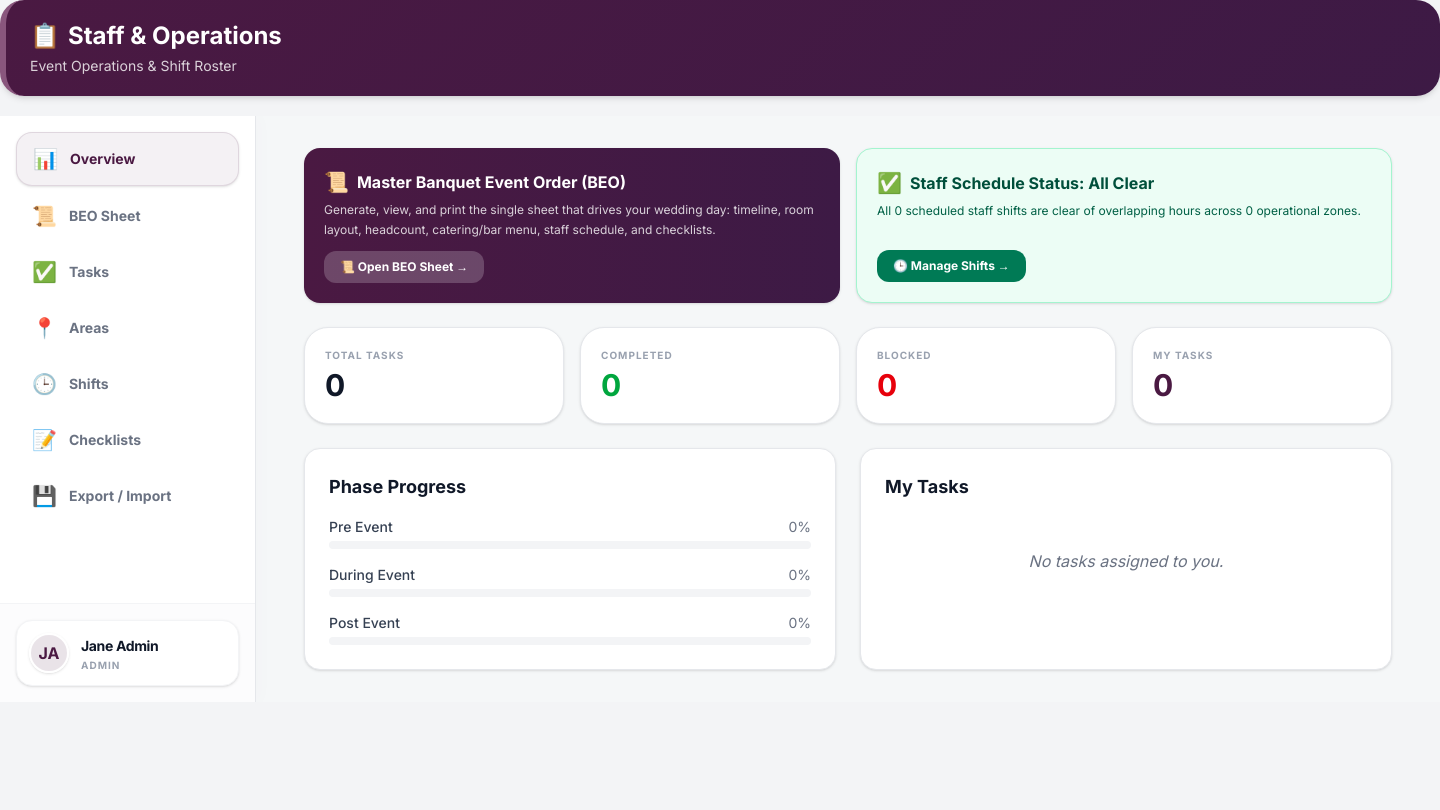
Scenario: Comprehensive Platform Application & Functional Design Audit (#153) › renders interactive StatCards on Staff Operations Overview that navigate to tasks tab when clicked
# Click "Total Tasks" stat card button
Click the button titled "click to view total tasks" at coordinates (365, 355), box [304,327,564,424]
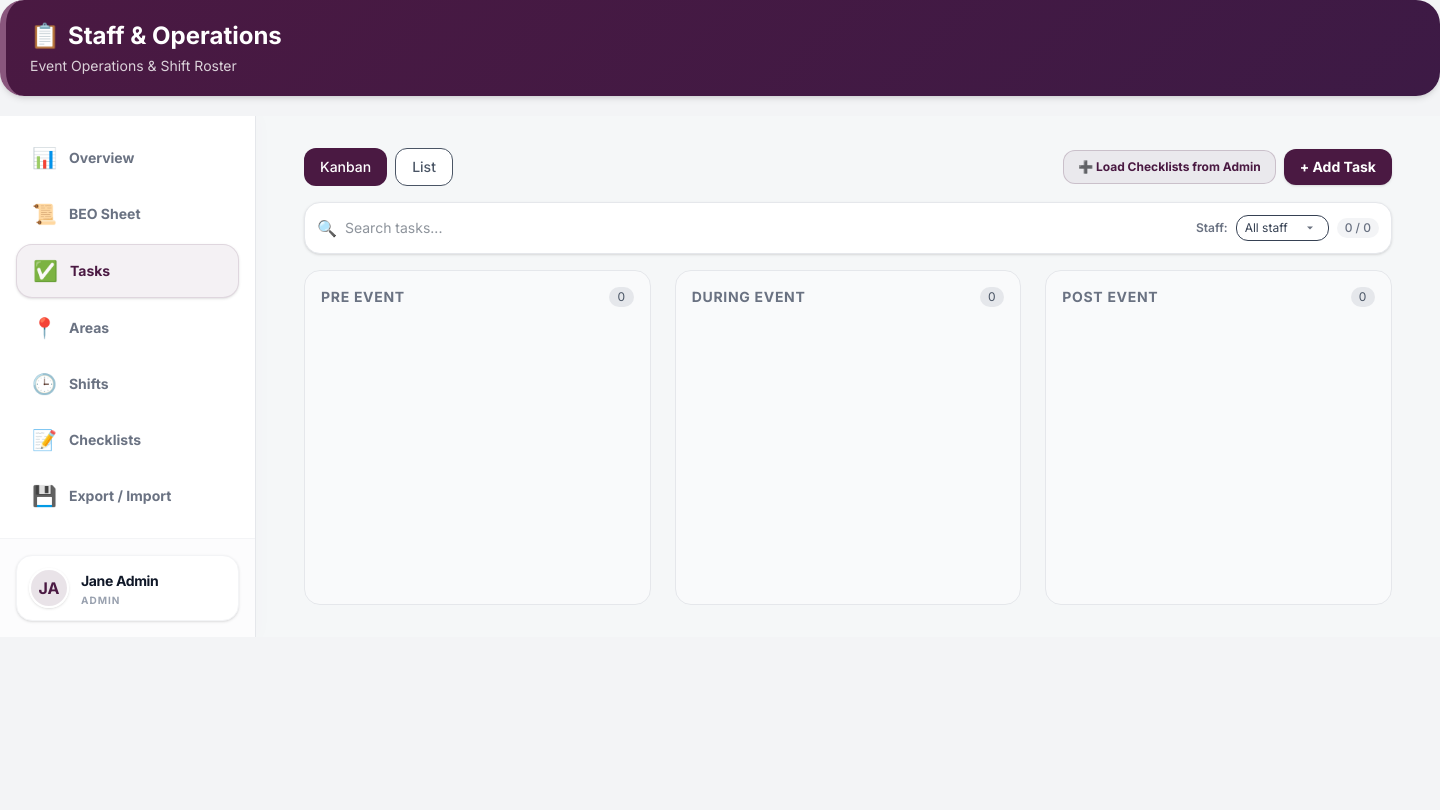
Now the button "+ Add Task" is shown, box [1284,149,1392,185]
